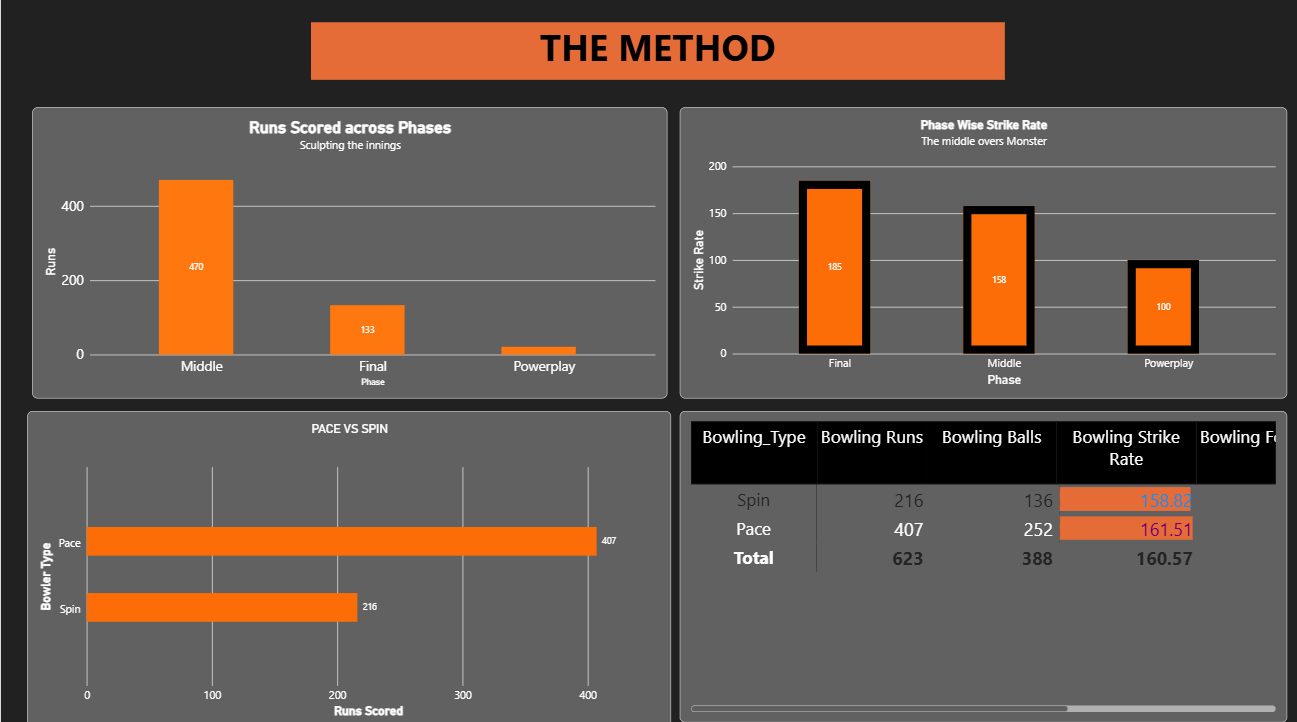

The page's visual inventory and layout, read from the dashboard file:
{"tool":"powerbi","page":{"name":"THE METHOD","canvas":[1920,1080],"ordinal":2},"visuals":[{"type":"clusteredColumnChart","title":"Runs Scored across Phases","fields":{"Category":["Phase_Wise_Div6.Phase"],"Y":["Sum(Phase_Wise_Div6.Runs)"]},"box":[46,163.8,935,428.8],"z":0},{"type":"clusteredColumnChart","title":"Phase Wise Strike Rate","fields":{"Category":["Phase_Wise_Div6.Phase"],"Y":["Measures_Table.Phase Strike Rate"]},"box":[999.4,163.8,894.5,428.8],"z":1000},{"type":"clusteredBarChart","title":"PACE VS SPIN","fields":{"Category":["Bowling_proper2.Bowling_Type"],"Y":["Sum(Bowling_proper2.Runs)"]},"box":[38.7,611,947.9,469.3],"z":2000},{"type":"pivotTable","fields":{"Rows":["Bowling_proper2.Bowling_Type"],"Values":["Measures_Table.Bowling Runs","Measures_Table.Bowling Balls","Measures_Table.Bowling Strike Rate","Measures_Table.Bowling Fours","Measures_Table.Bowling Sixes","Measures_Table.Dot Ball %"]},"box":[999.4,611,894.5,460.1],"z":3000},{"type":"textbox","box":[456.4,38.7,1021.5,84.7],"z":5000}]}

Visuals, with their boxes in screenshot pixels (x1, y1, x2, y2), scaled from the page's 1920x1080 canvas onto the 1297x722 screenshot:
"Runs Scored across Phases" clusteredColumnChart: (left=31, top=110, right=663, bottom=396)
"Phase Wise Strike Rate" clusteredColumnChart: (left=675, top=110, right=1279, bottom=396)
"PACE VS SPIN" clusteredBarChart: (left=26, top=408, right=666, bottom=721)
pivotTable - Bowling_proper2.Bowling_Type x Measures_Table.Bowling Runs: (left=675, top=408, right=1279, bottom=716)
textbox: (left=308, top=26, right=998, bottom=82)
